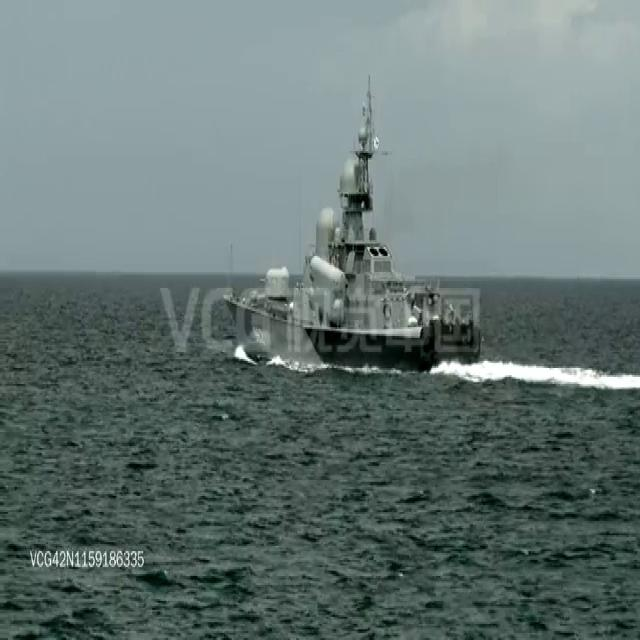houseboat: (223, 80, 484, 364)
